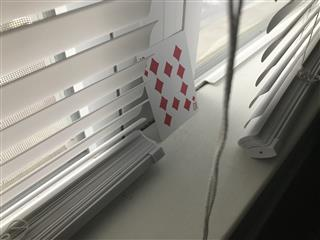TenOfDiamonds: (135, 29, 199, 142)
